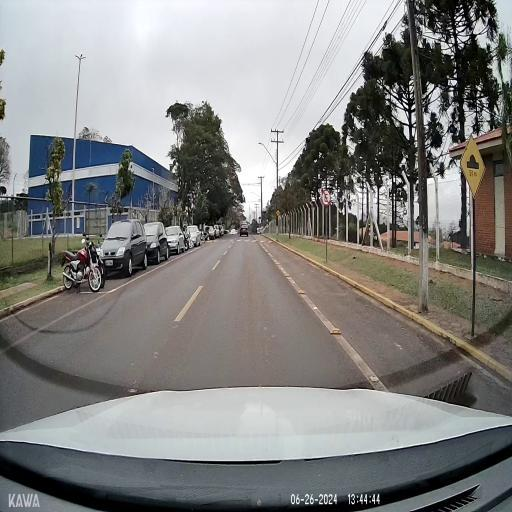A-18: (460, 132, 486, 200)
R-6a: (322, 190, 330, 206)
